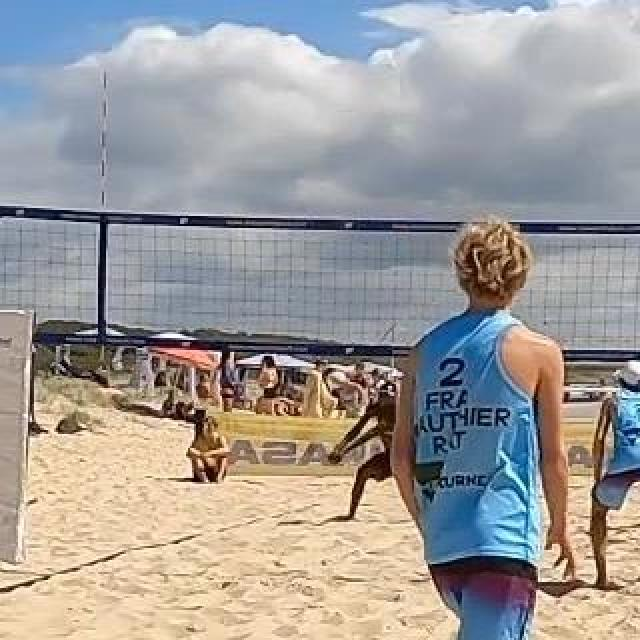volleyball: (322, 365, 346, 389)
